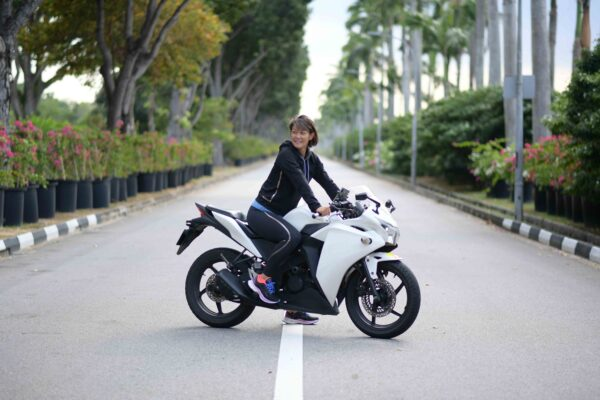motobicycle: (175, 189, 422, 340)
person: (247, 113, 343, 323)
